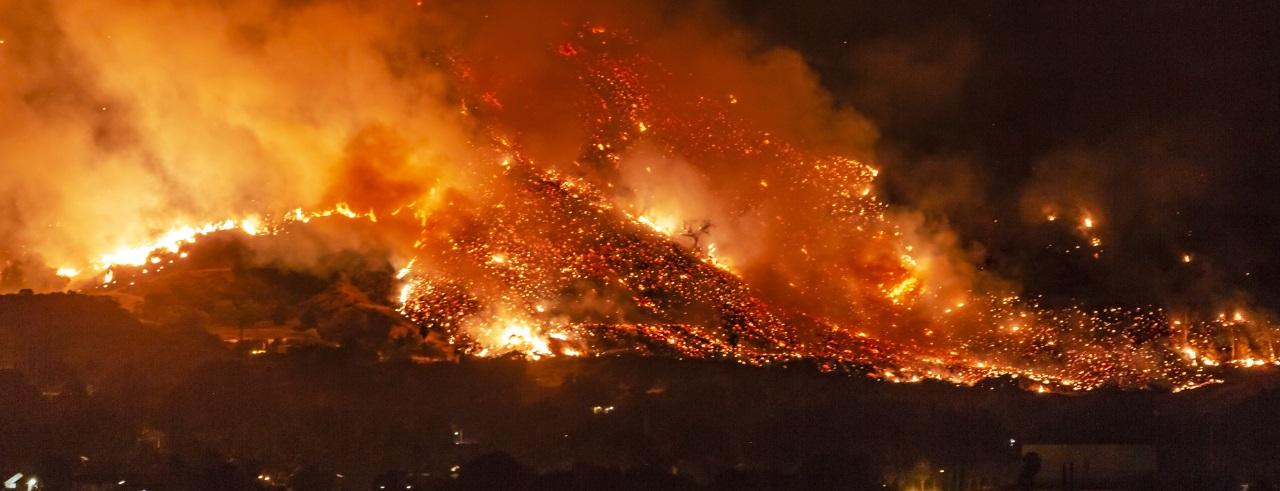fire: (64, 220, 220, 261), (470, 317, 561, 363), (881, 269, 947, 309), (633, 199, 683, 237)
